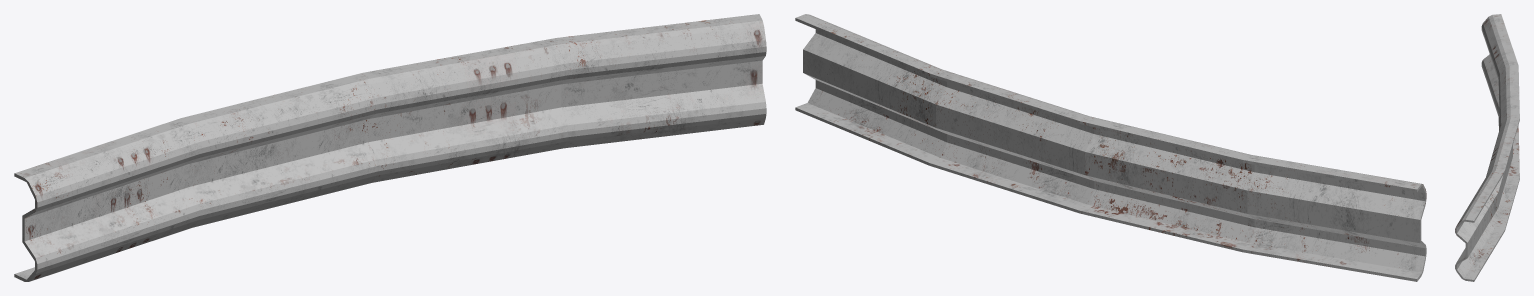
Rendered from traffic_barrier_02.glb.
3 views of the same model, side by side, from view 1: azimuth 30°, elevation 25°; view 2: azimuth 150°, elevation 25°; view 3: azimuth 270°, elevation 25° (orthographic). The views are drawn at different scales.
Visible parts, largest first — view 1: Asset_05; view 2: Asset_05; view 3: Asset_05.
Boxes of the visible parts, x1,y1,x2,y2 form: Asset_05: (14,14,766,281); Asset_05: (795,14,1426,281); Asset_05: (1455,14,1519,281).
Size of the model in its own units: 3.85 by 0.5297 by 0.5105.
Materials: 1 (1 with a texture image).
